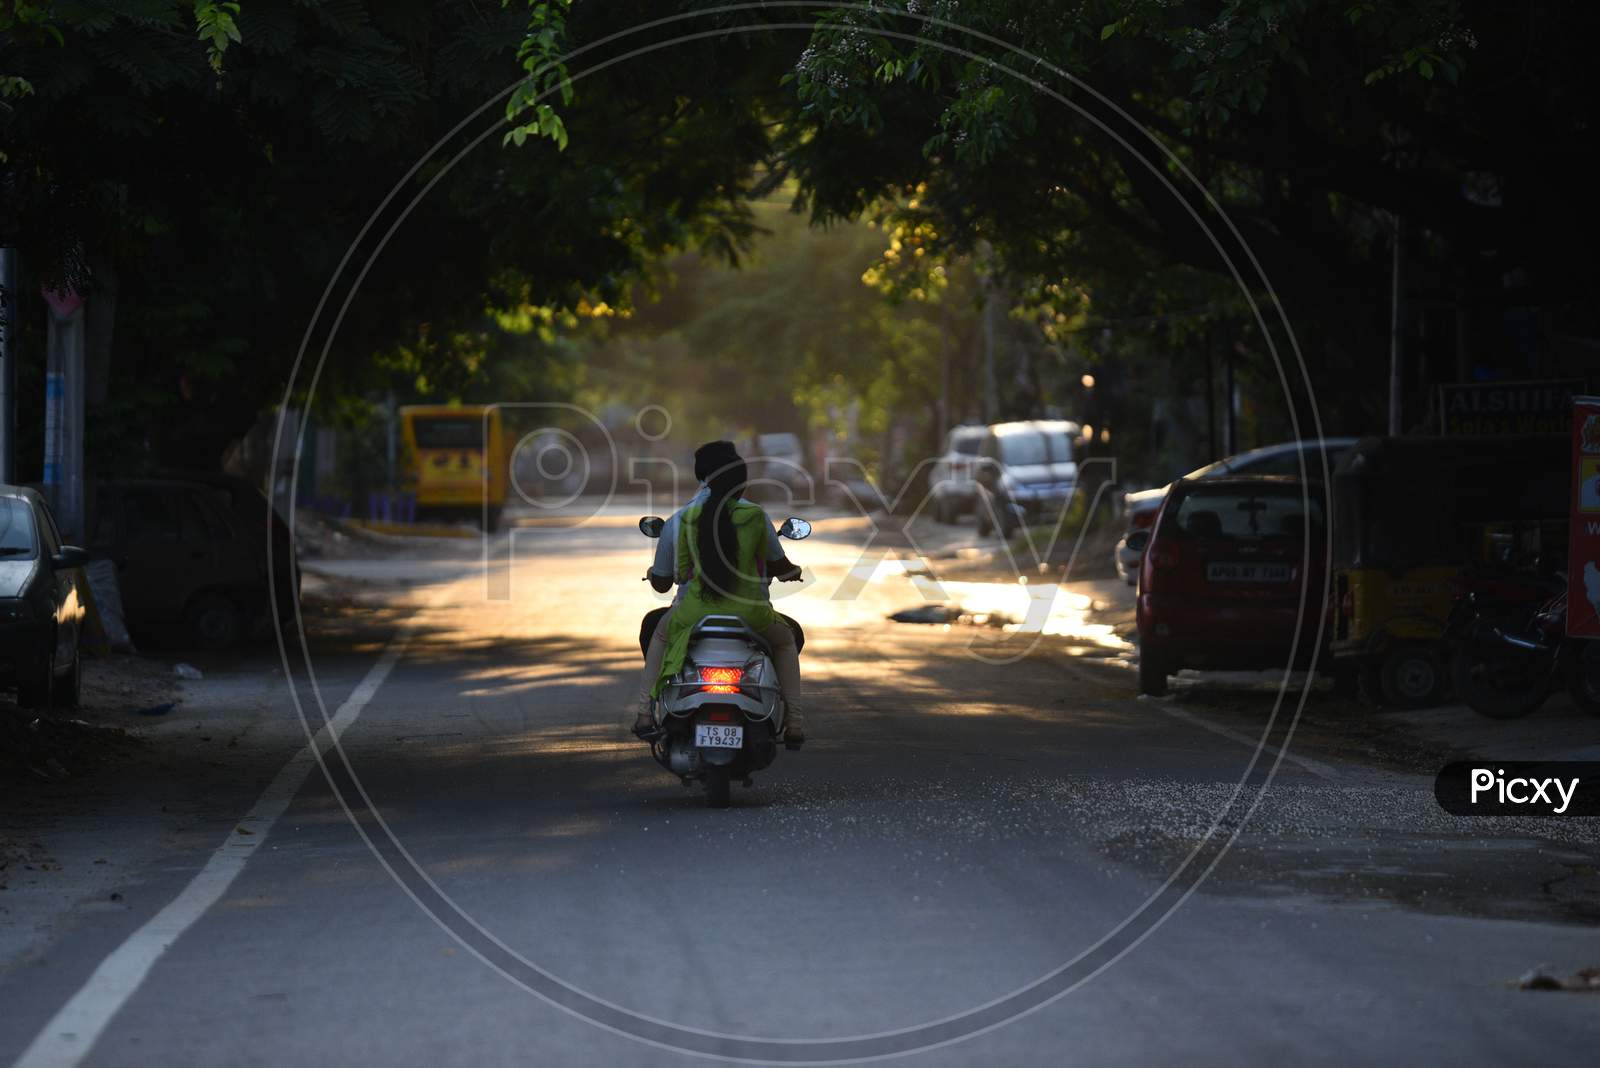bike: (649, 446, 798, 811)
bus: (394, 397, 513, 541)
car: (1143, 480, 1332, 679), (1, 486, 80, 733), (983, 414, 1095, 545)
rickshaw: (1338, 431, 1487, 698)
